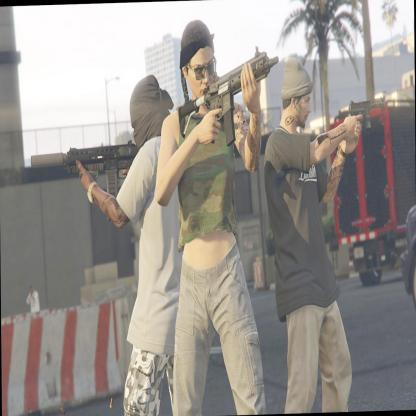rifle: (174, 42, 280, 148), (26, 140, 137, 198)
